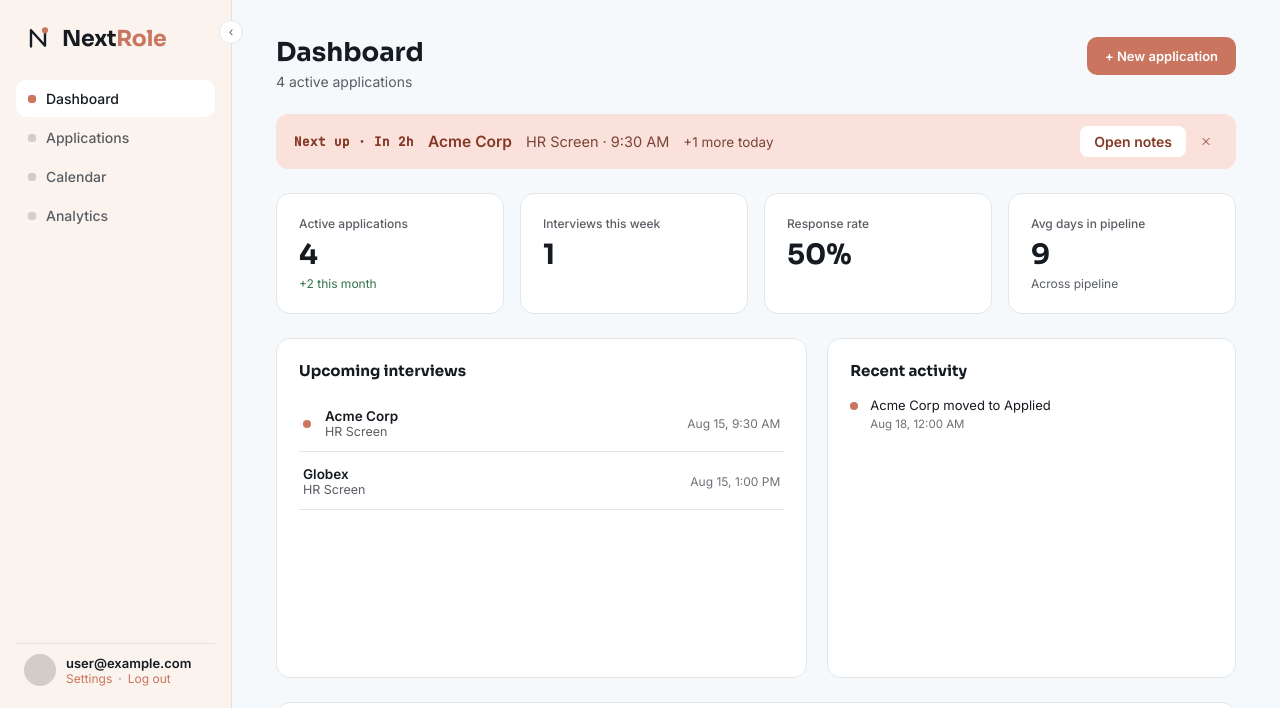
DashboardPage › hides the banner entirely on snooze instead of jumping to a later interview today
Check: the text "Acme Corp" next to "In 2h" is shown, box [428,132,512,151]
Click the button named "Dismiss" at point(1206, 142), box [1194,130,1218,154]
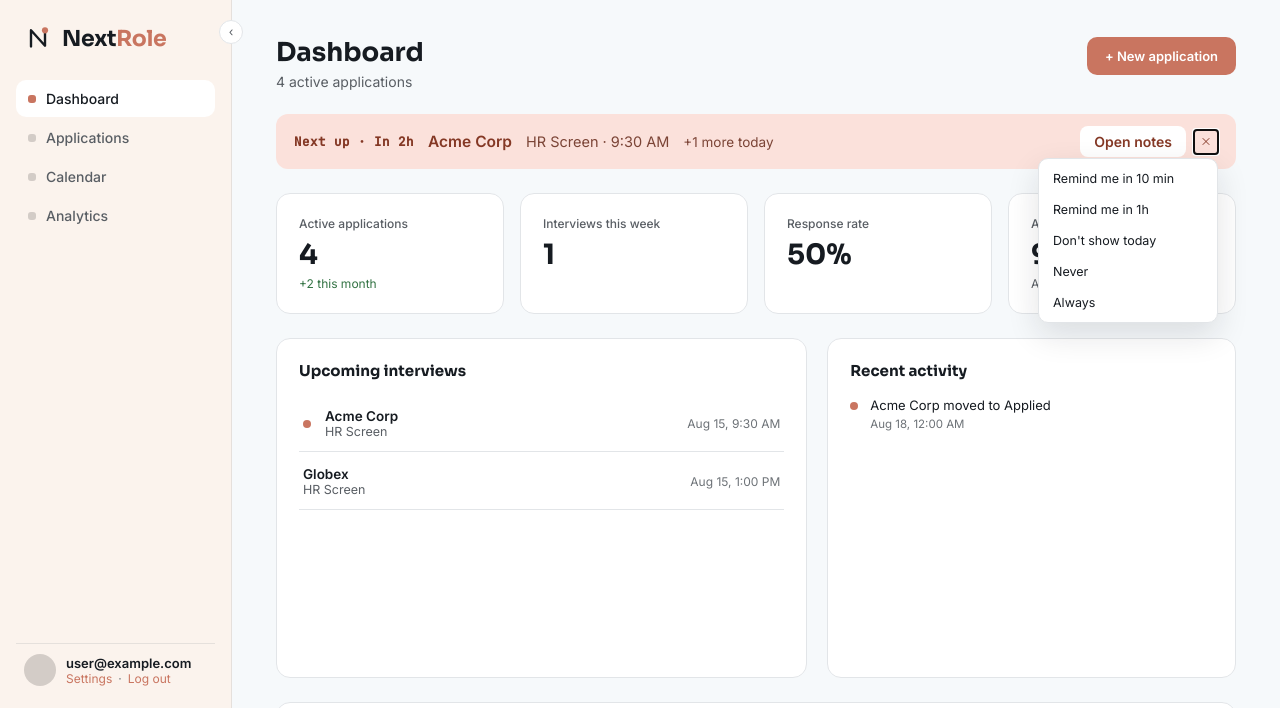
Click the menu item "Remind me in 10 min" at point(1114, 178), box [1053,170,1174,186]
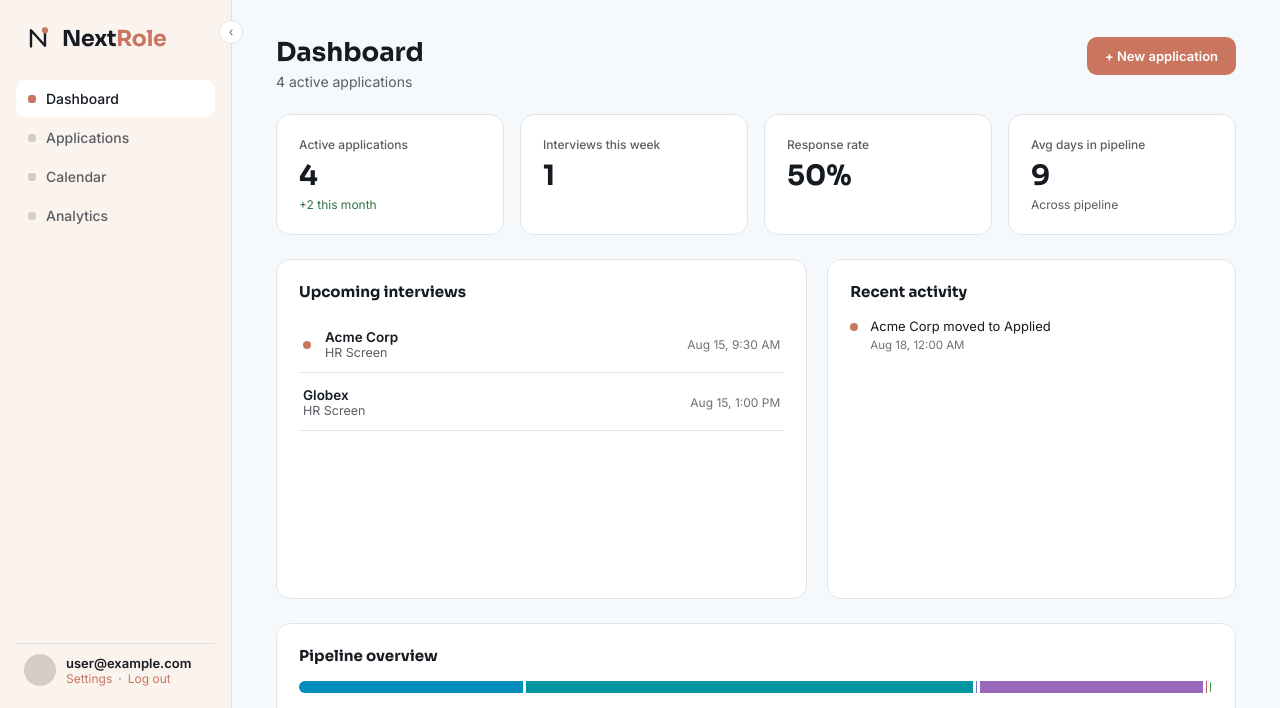
Check: the text "Next up" is gone
